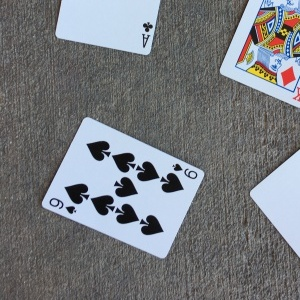card: (39, 115, 205, 260)
